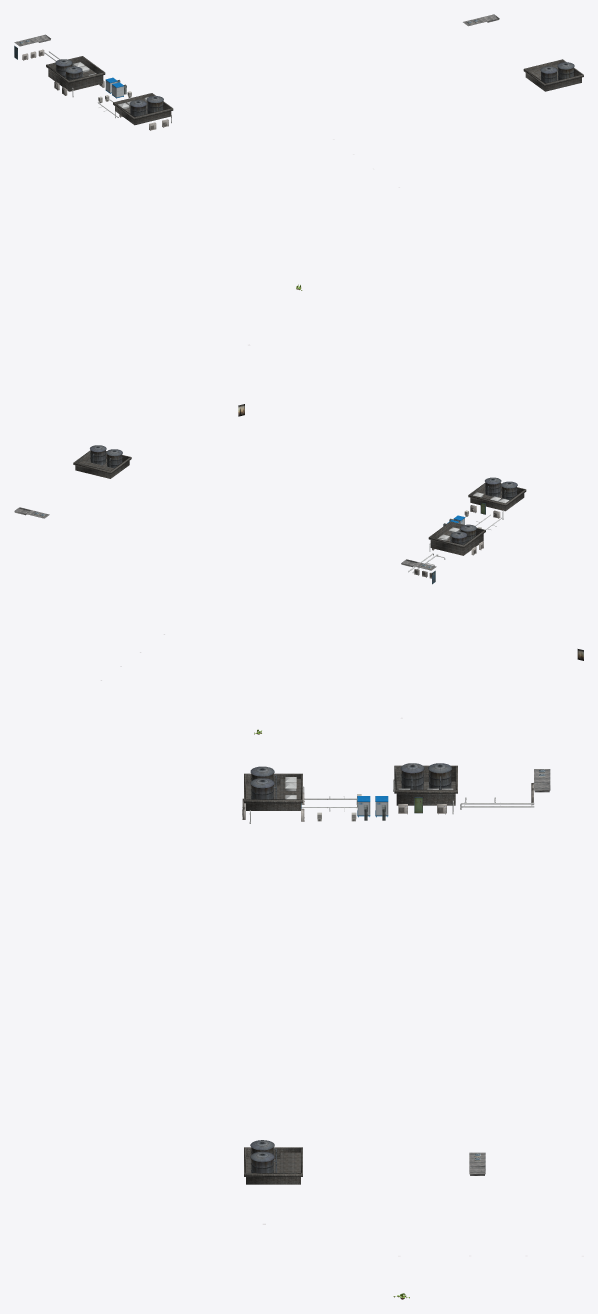
The model's file is level1.glb.
3 views of the same model, one above another, from view 1: azimuth 30°, elevation 25°; view 2: azimuth 150°, elevation 25°; view 3: azimuth 270°, elevation 25° (orthographic). The views are drawn at different scales.
Parts seen in each view (by area): view 1: us03Bldg065.Shape_Rooftop2_0, us03Bldg065.Shape_WaterTower1_0, us03Bldg063.Shape_Rooftop2_0, us03Bldg063.Shape_WaterTower1_0; view 2: us03Bldg065.Shape_Rooftop2_0, us03Bldg065.Shape_WaterTower1_0, us03Bldg063.Shape_Rooftop2_0, us03Bldg063.Shape_WaterTower1_0, us03Bldg065.Shape_RoofVents_0; view 3: us03Bldg065.Shape_Rooftop2_0, us03Bldg065.Shape_WaterTower1_0, us03Bldg063.Shape_Rooftop2_0, us03Bldg065.Shape_RoofVents_0, us03Bldg063.Shape_WaterTower1_0.
Part boxes in pixels (x1,y1,x2,y2): us03Bldg065.Shape_Rooftop2_0: (46,56,173,125); us03Bldg065.Shape_WaterTower1_0: (55,59,163,116); us03Bldg063.Shape_Rooftop2_0: (523,59,583,91); us03Bldg063.Shape_WaterTower1_0: (540,62,574,83); us03Bldg065.Shape_Rooftop2_0: (428,483,526,555); us03Bldg065.Shape_WaterTower1_0: (450,477,517,544); us03Bldg063.Shape_Rooftop2_0: (73,450,131,478); us03Bldg063.Shape_WaterTower1_0: (90,445,122,468); us03Bldg065.Shape_RoofVents_0: (408,492,509,573); us03Bldg065.Shape_Rooftop2_0: (244,765,457,810); us03Bldg065.Shape_WaterTower1_0: (250,763,452,799); us03Bldg063.Shape_Rooftop2_0: (244,1147,302,1184); us03Bldg065.Shape_RoofVents_0: (249,777,534,823); us03Bldg063.Shape_WaterTower1_0: (250,1140,276,1172).
Bounding box in the file's own units: 9383 × 5367 × 7157.
Materials: 26 (17 with a texture image).
